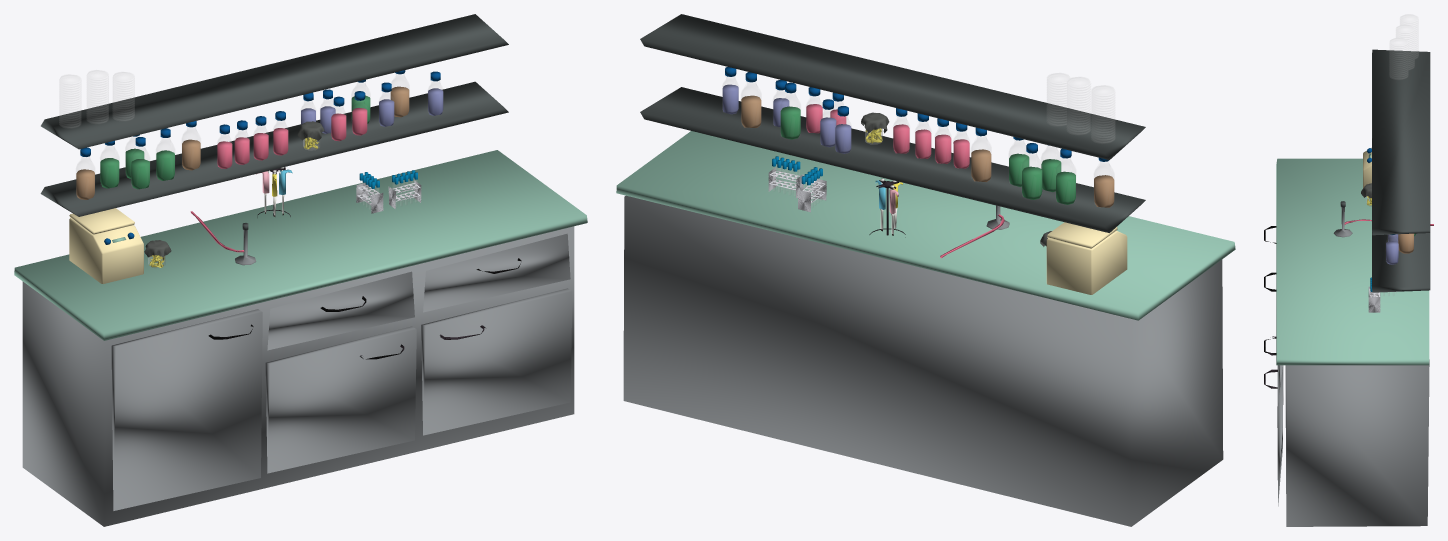
The model's file is lab_bench.glb.
The picture shows the model from 3 angles, left to right: view 1: azimuth 30°, elevation 25°; view 2: azimuth 150°, elevation 25°; view 3: azimuth 270°, elevation 25°; orthographic projection. The views are drawn at different scales.
Parts seen in each view (by area): view 1: Torus.000, Torus.004, Torus.002, Cube, Circle.003, Circle.011, Circle.012, inhalt.002, inhalt.005, inhalt, inhalt.004, inhalt.001 (+2 smaller); view 2: Torus.000, Torus.004, Torus.002, Cube, Circle.003, Circle.011, Circle.012, inhalt.006, inhalt.003, inhalt.007, Icosphere.002, inhalt.001 (+4 smaller); view 3: Torus.000, Torus.004, Torus.002, Circle.012, Circle.003, inhalt_klein.001, Cube, inhalt.007, Plane.004, Circle.011, Circle.013.
Boxes of the visible parts, <box> form: Torus.000: <box>22,226,574,526</box>; Torus.004: <box>14,150,587,340</box>; Torus.002: <box>40,14,508,216</box>; Cube: <box>69,208,143,283</box>; Circle.003: <box>87,71,108,123</box>; Circle.011: <box>60,75,80,127</box>; Circle.012: <box>113,72,134,120</box>; inhalt.002: <box>131,137,149,189</box>; inhalt.005: <box>156,128,174,180</box>; inhalt: <box>76,147,94,199</box>; inhalt.004: <box>182,121,200,170</box>; inhalt.001: <box>100,140,119,188</box>; Torus.000: <box>623,195,1223,526</box>; Torus.004: <box>616,131,1235,320</box>; Torus.002: <box>640,14,1145,232</box>; Cube: <box>1046,222,1127,294</box>; Circle.003: <box>1067,77,1090,134</box>; Circle.011: <box>1092,86,1114,143</box>; Circle.012: <box>1047,74,1069,125</box>; inhalt.006: <box>780,82,800,139</box>; inhalt.003: <box>1022,143,1042,199</box>; inhalt.007: <box>741,72,761,127</box>; Icosphere.002: <box>869,178,905,237</box>; inhalt.001: <box>1056,148,1075,204</box>; Torus.000: <box>1277,359,1429,526</box>; Torus.004: <box>1276,158,1429,365</box>; Torus.002: <box>1372,49,1430,292</box>; Circle.012: <box>1390,38,1407,79</box>; Circle.003: <box>1396,25,1414,69</box>; inhalt_klein.001: <box>1386,234,1398,264</box>; Cube: <box>1363,147,1371,188</box>; inhalt.007: <box>1398,233,1414,253</box>; Plane.004: <box>1368,286,1380,312</box>; Circle.011: <box>1400,15,1418,58</box>; Circle.013: <box>1333,201,1352,237</box>.
Size of the model in its own units: 2.62 by 2.01 by 0.938.
Materials: 2 (2 with a texture image).
